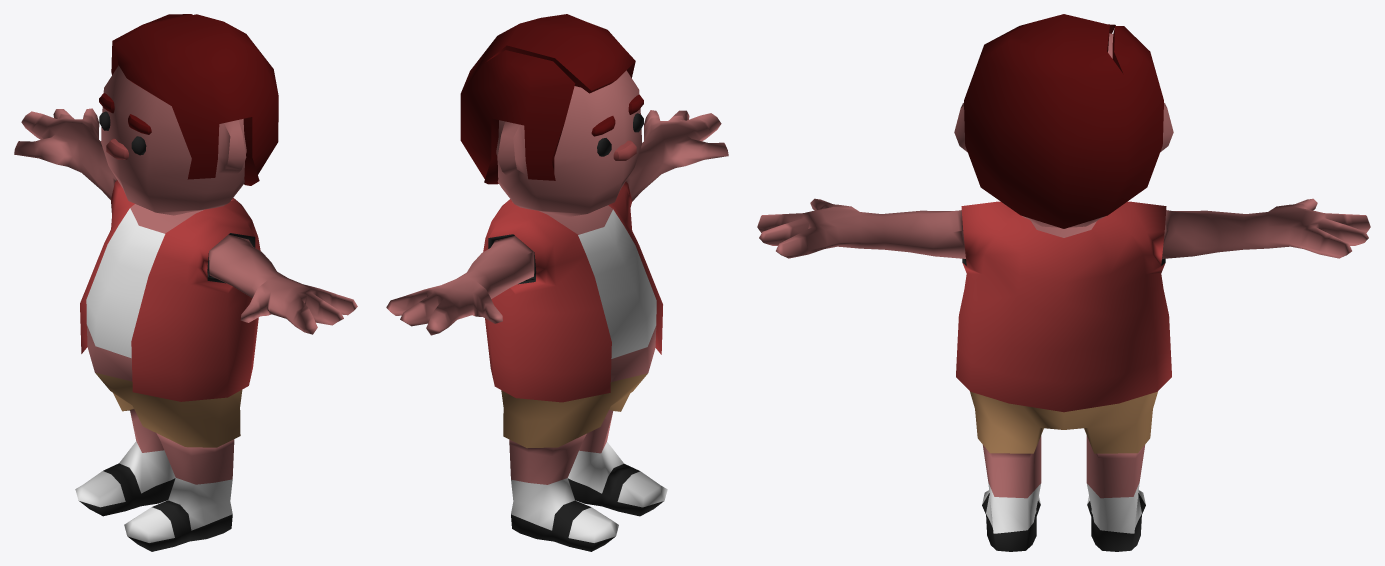
File: Dad_Tpose.fbx
3 renders of one model, left to right at view 1: azimuth 30°, elevation 25°; view 2: azimuth 150°, elevation 25°; view 3: azimuth 270°, elevation 25°, orthographic. The views are drawn at different scales.
Parts seen in each view (by area): view 1: Body, Hair2, skull, Eyebrows; view 2: Body, Hair2, skull, Eyebrows; view 3: Body, Hair2, skull.
Part boxes in pixels (box(x1,y1,x2,y2)): Body: box(14, 108, 357, 551); Hair2: box(111, 14, 278, 185); skull: box(101, 65, 246, 215); Eyebrows: box(99, 93, 151, 134); Body: box(386, 110, 728, 551); Hair2: box(460, 14, 635, 184); skull: box(496, 70, 641, 216); Eyebrows: box(591, 95, 643, 136); Body: box(757, 198, 1370, 551); Hair2: box(964, 14, 1163, 228); skull: box(954, 33, 1173, 227).
Bounding box in the file's own units: 2.16 × 5.54 × 5.98.
